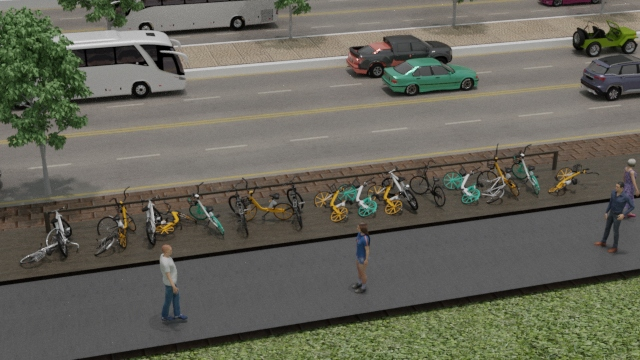fallen: (49, 37, 640, 246), (43, 40, 640, 236), (43, 40, 640, 211), (40, 40, 640, 202), (40, 39, 640, 198), (36, 34, 640, 187), (41, 39, 640, 190), (53, 30, 640, 178), (0, 44, 174, 218)
parked: (34, 54, 503, 188), (28, 51, 526, 169), (37, 47, 428, 196), (37, 45, 400, 198), (26, 52, 320, 231), (23, 51, 320, 220), (24, 54, 320, 208), (23, 53, 320, 201)
rotated: (54, 46, 320, 324), (27, 62, 320, 217), (38, 54, 320, 214)
